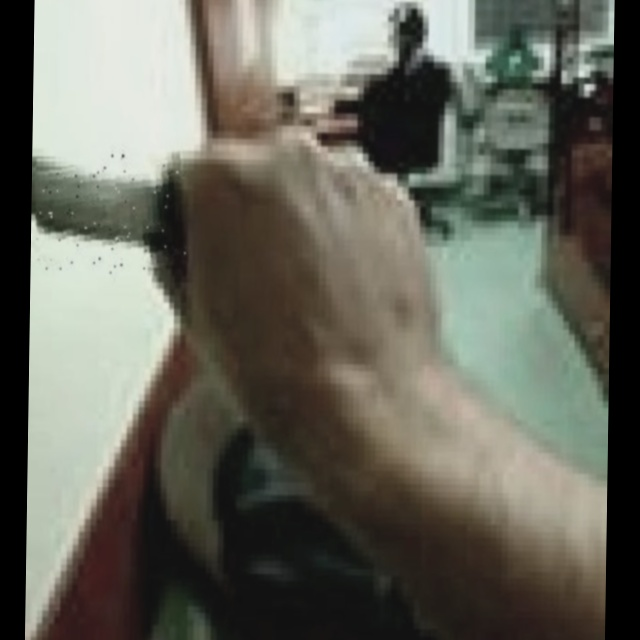Sharp-Object: (35, 153, 187, 276)
